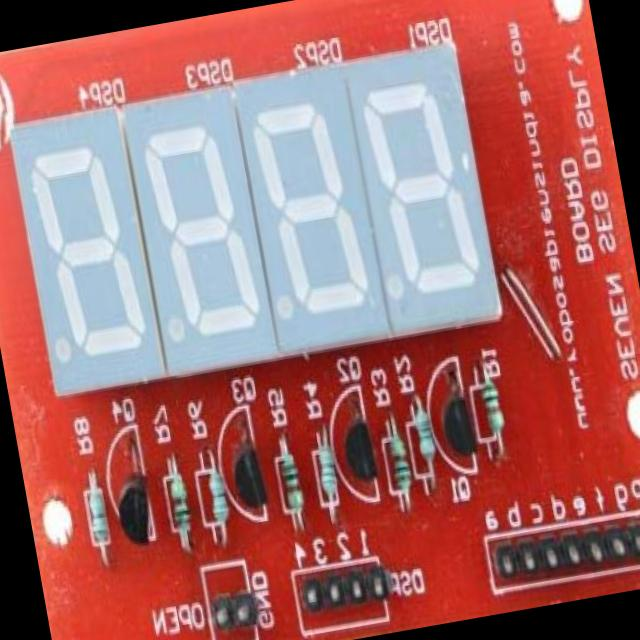connector: (479, 505, 640, 591), (292, 556, 397, 622), (204, 574, 262, 640)
resistor: (378, 408, 415, 502), (77, 476, 113, 560), (275, 436, 310, 516), (409, 397, 442, 478), (310, 433, 344, 508), (164, 471, 198, 544), (478, 366, 506, 440), (202, 466, 233, 531)
